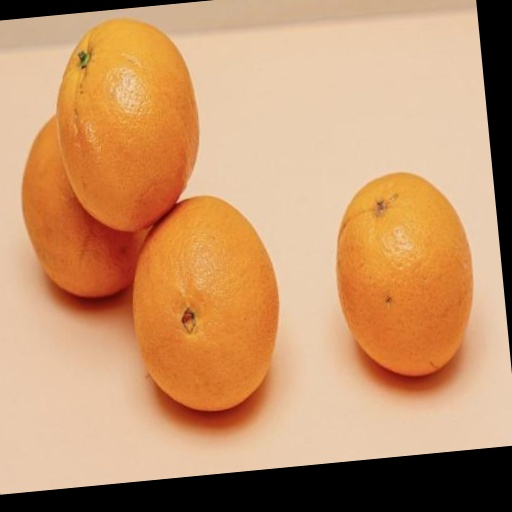fruit: (133, 197, 279, 411), (57, 19, 198, 230), (337, 174, 473, 375), (22, 117, 145, 297)
